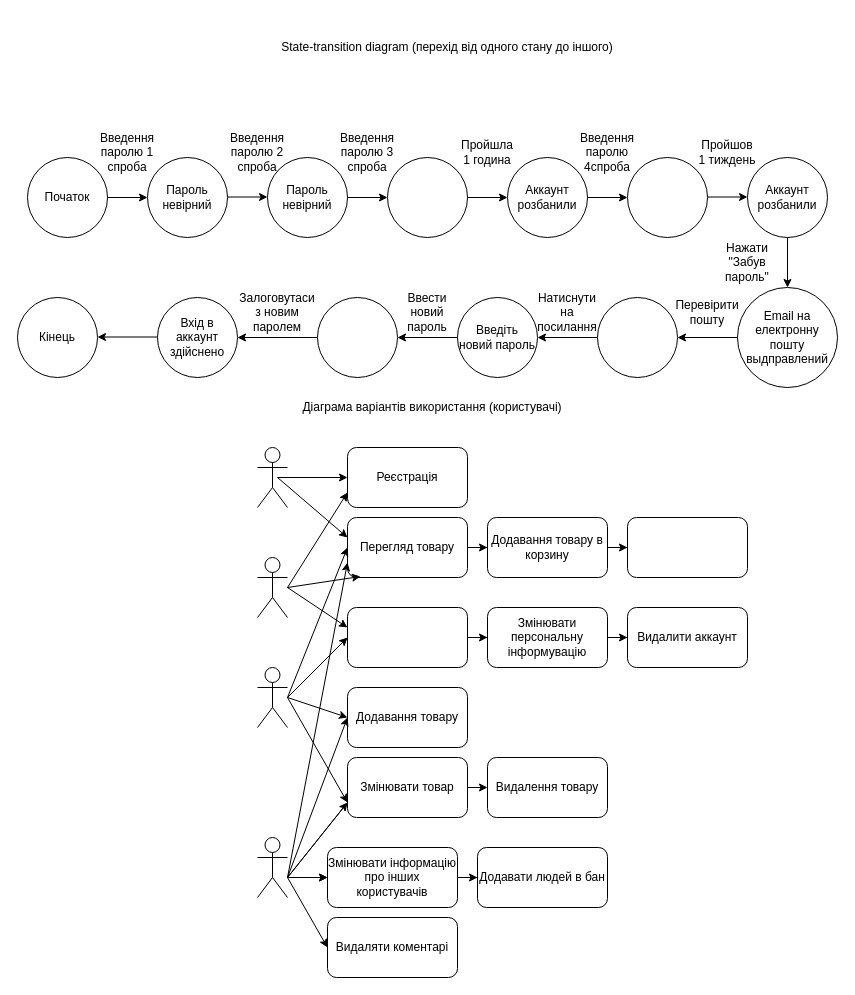
Some shapes in this 855 by 995 pixel diagram are drawn without their labels. Each missing label, with the centre of its shape:
Адмін: point 272,867
Аккаунт забанили на 1 тиждень: point 667,197
Аккаунт обновлений: point 357,337
Ввійти в систему: point 407,637
Занали на 1 годину: point 427,197
Незареєстрований покупець: point 272,477
Оформлення замовлення: point 687,547
Подавець: point 272,697
Покупець: point 272,587
Посилання на відновлення: point 637,337
